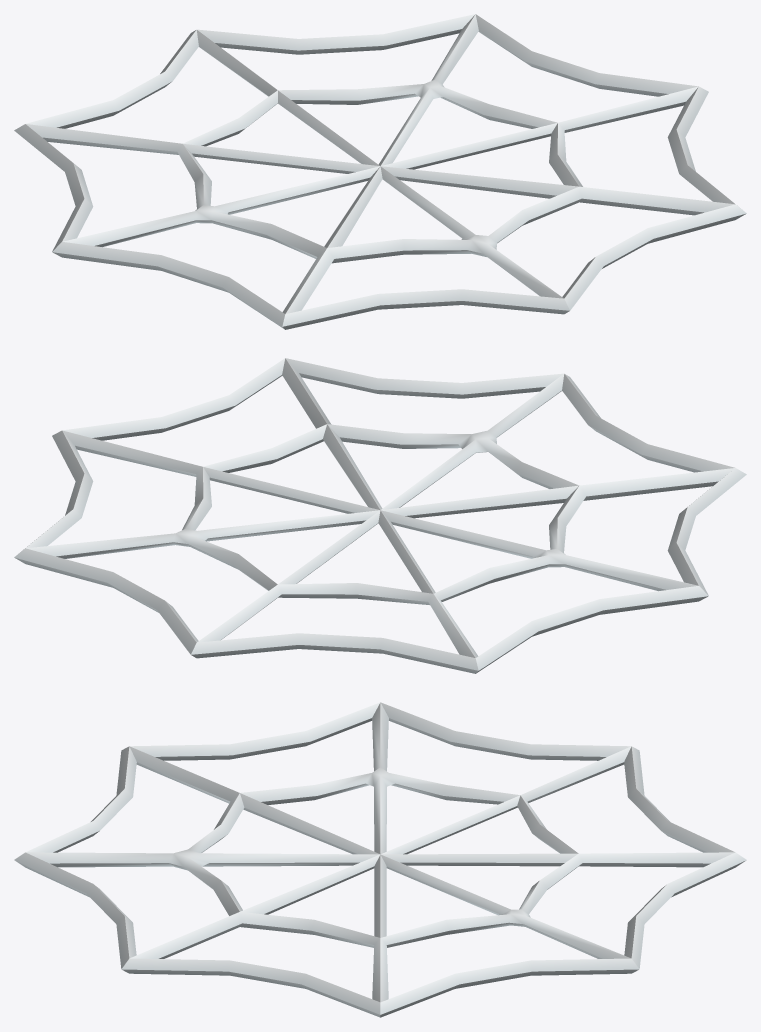
The model's file is cobweb_A.gltf.
3 renders of one model, top to bottom at view 1: azimuth 30°, elevation 25°; view 2: azimuth 150°, elevation 25°; view 3: azimuth 270°, elevation 25°, orthographic. The views are drawn at different scales.
Parts seen in each view (by area): view 1: cobweb_A; view 2: cobweb_A; view 3: cobweb_A.
Boxes of the visible parts, left/top/right/bottom form: cobweb_A: left=14, top=14, right=746, bottom=329; cobweb_A: left=14, top=358, right=746, bottom=673; cobweb_A: left=14, top=702, right=746, bottom=1017.
Bounding box in the file's own units: 2.18 × 0.05 × 2.18.
Materials: 1 (1 with a texture image).
